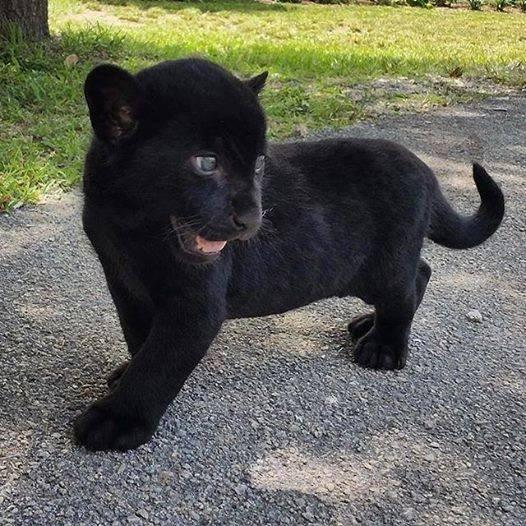panther: (65, 55, 506, 447)
